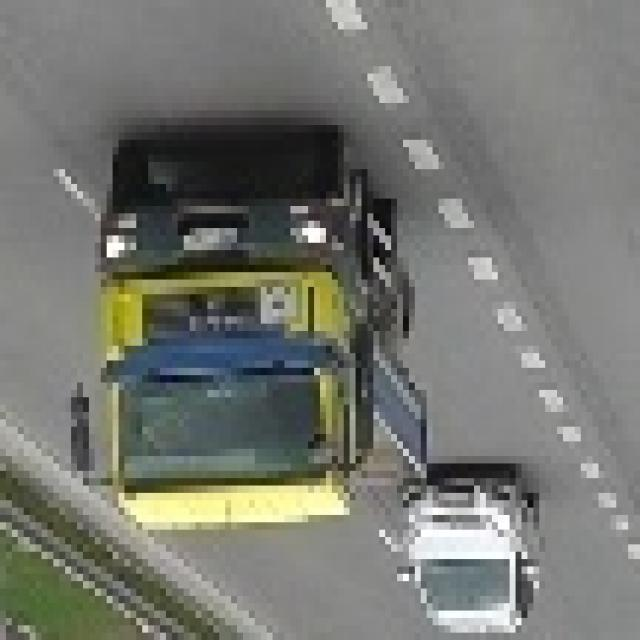truck: (59, 140, 427, 537)
